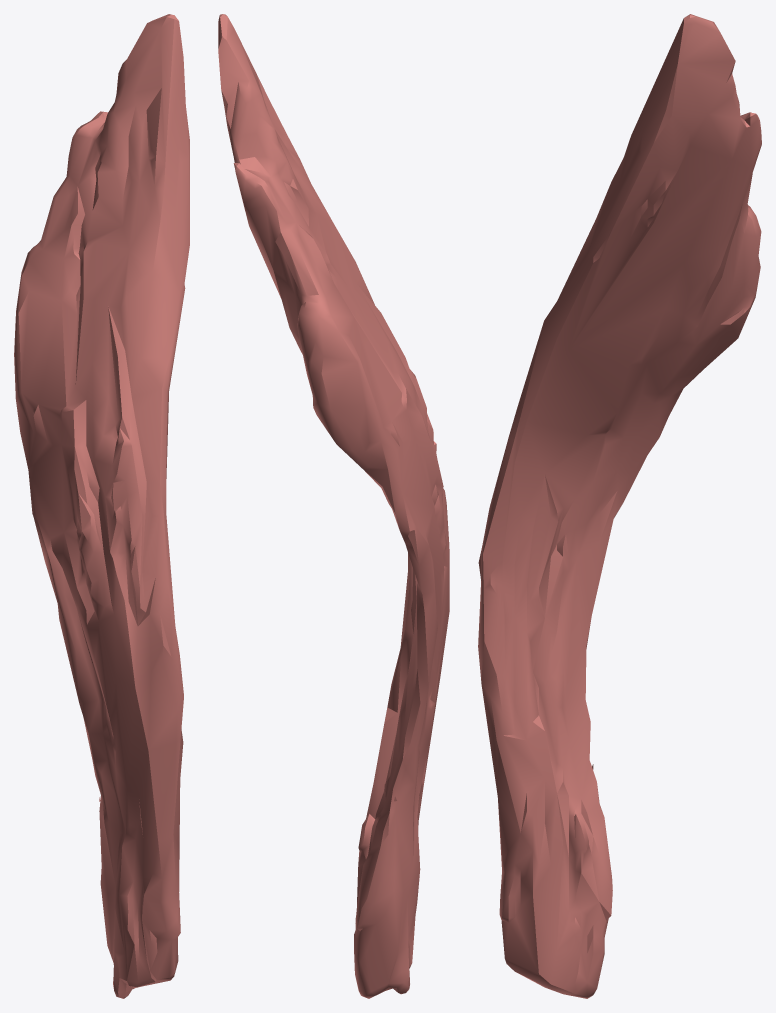
File: fma46803.glb
The picture shows the model from 3 angles, left to right: view 1: azimuth 30°, elevation 25°; view 2: azimuth 150°, elevation 25°; view 3: azimuth 270°, elevation 25°; orthographic projection. The views are drawn at different scales.
Parts seen in each view (by area): view 1: FMA46803; view 2: FMA46803; view 3: FMA46803.
Boxes of the visible parts, <box> form: FMA46803: <box>14,14,189,998</box>; FMA46803: <box>218,14,449,998</box>; FMA46803: <box>478,14,761,998</box>.
Size of the model in its own units: 0.00528 by 0.0282 by 0.00705.
